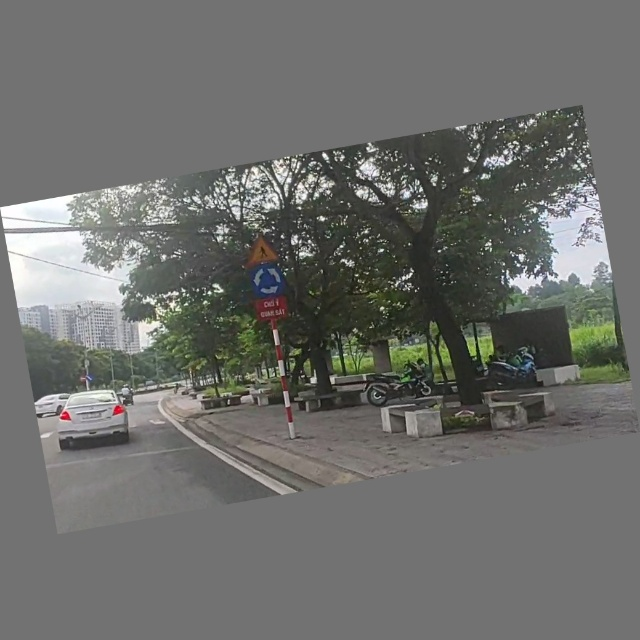P.102: (79, 375, 87, 383)
R.302a: (86, 374, 95, 384)
R.303: (248, 262, 290, 300)
W.224: (242, 232, 282, 266)
